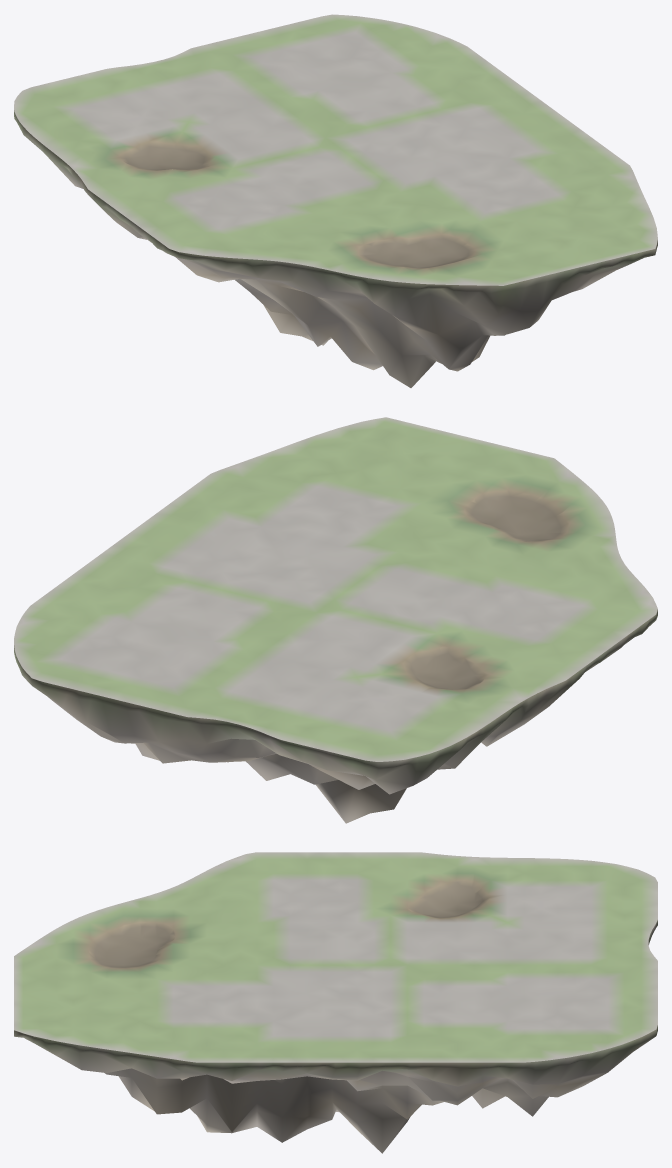
File: SKY-086.rock.glb
The picture shows the model from 3 angles, top to bottom: view 1: azimuth 30°, elevation 25°; view 2: azimuth 150°, elevation 25°; view 3: azimuth 270°, elevation 25°; orthographic projection. The views are drawn at different scales.
Parts seen in each view (by area): view 1: deck-col, rock; view 2: deck-col, rock; view 3: deck-col, rock.
Part boxes in pixels (<box>): deck-col: <box>14,14,657,285</box>; rock: <box>14,110,657,387</box>; deck-col: <box>14,417,657,761</box>; rock: <box>14,609,657,823</box>; deck-col: <box>14,852,657,1062</box>; rock: <box>14,920,657,1153</box>.
Bounding box in the file's own units: 119 × 51.72 × 154.
